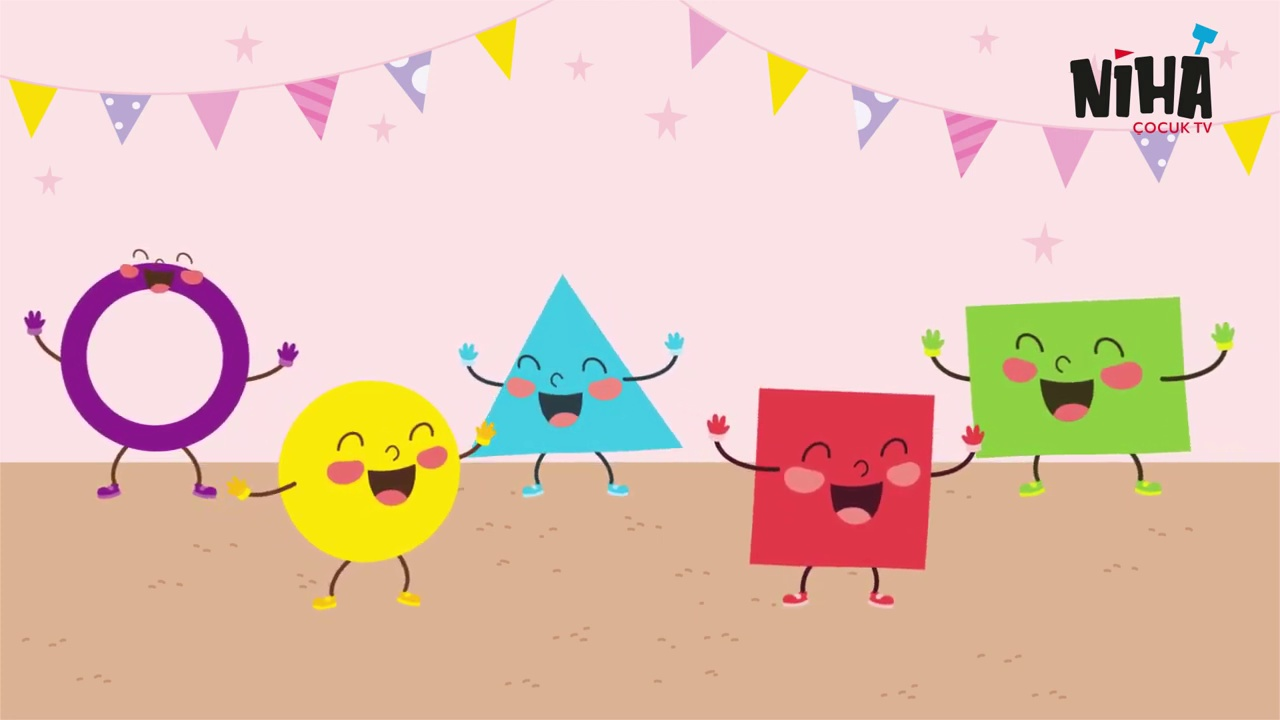daire: (54, 264, 250, 446), (279, 382, 455, 556)
dikdortgen: (959, 291, 1203, 456)
kare: (754, 376, 936, 573)
ucgen: (474, 278, 687, 459)
